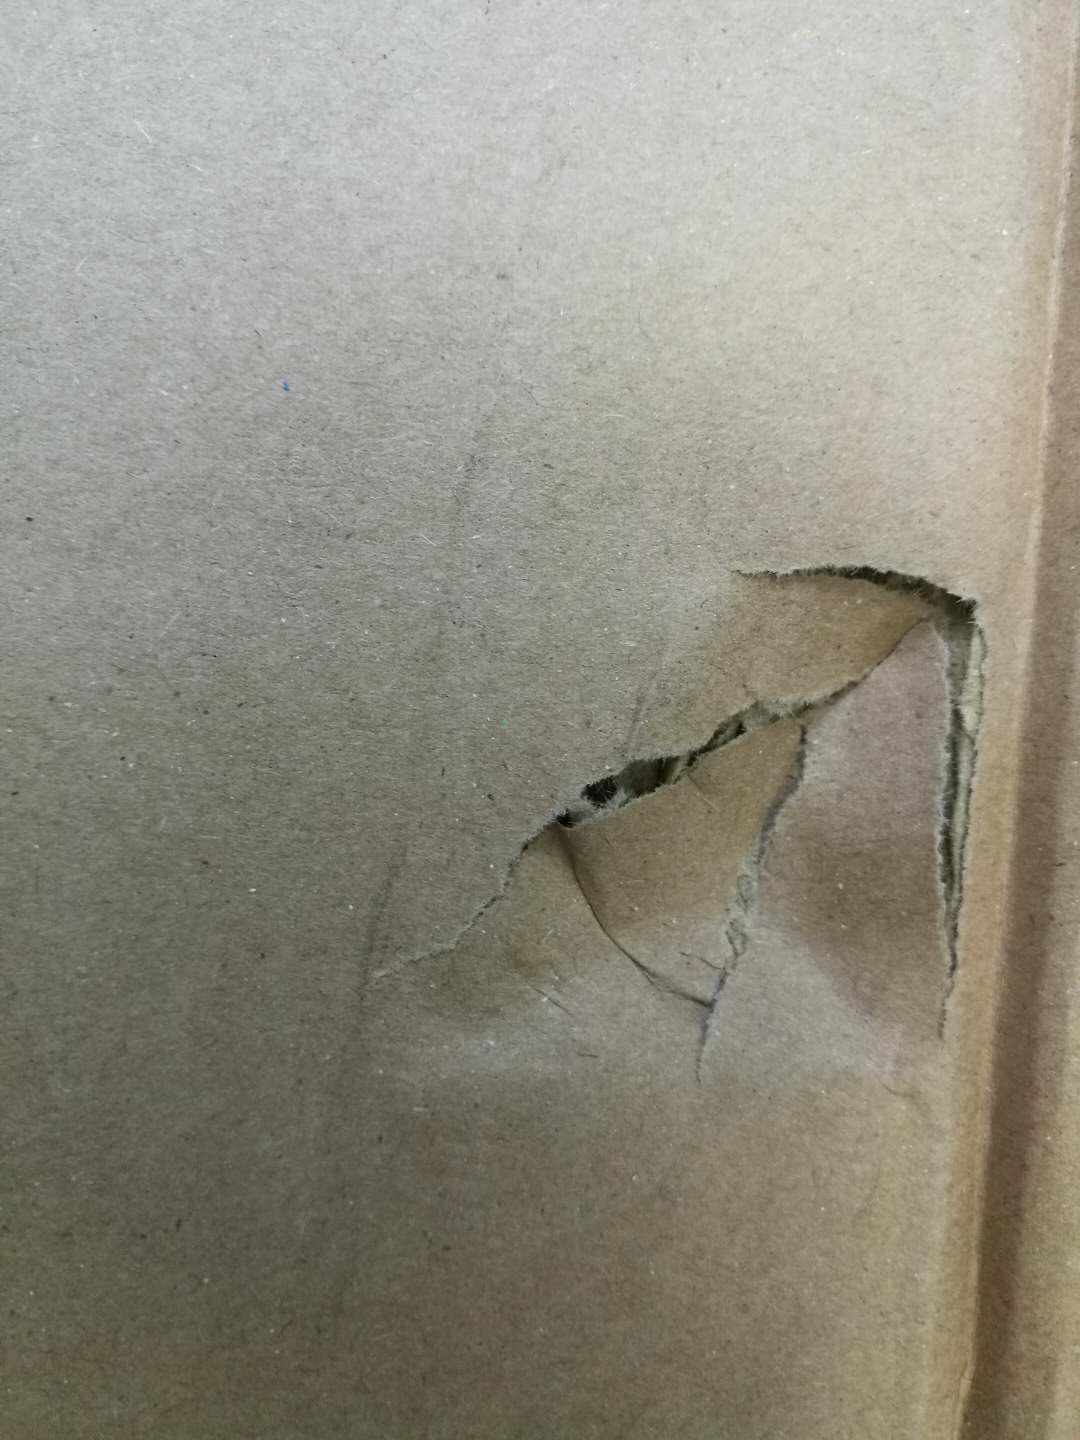defect: (295, 379, 1043, 1222), (859, 36, 1080, 1438)
